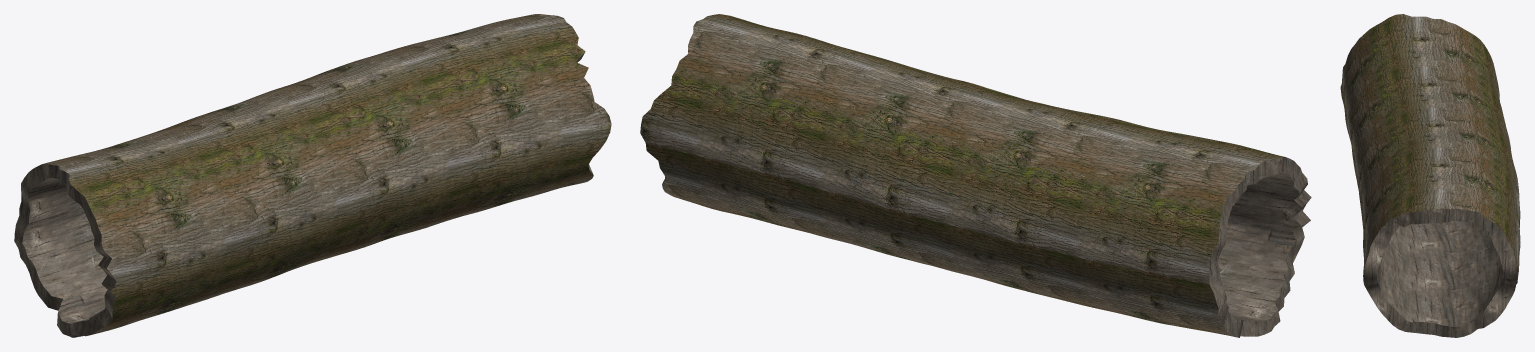
File: log_hollow.glb
3 views of the same model, side by side, from view 1: azimuth 30°, elevation 25°; view 2: azimuth 150°, elevation 25°; view 3: azimuth 270°, elevation 25° (orthographic). The views are drawn at different scales.
Visible parts, largest first — view 1: log_hollow; view 2: log_hollow; view 3: log_hollow.
Boxes of the visible parts, left/top/right/bottom form: log_hollow: left=14, top=14, right=611, bottom=337; log_hollow: left=640, top=14, right=1311, bottom=337; log_hollow: left=1340, top=14, right=1520, bottom=337.
Bounding box in the file's own units: 13.66 × 4.41 × 4.84.
2 materials, 2 textured.
